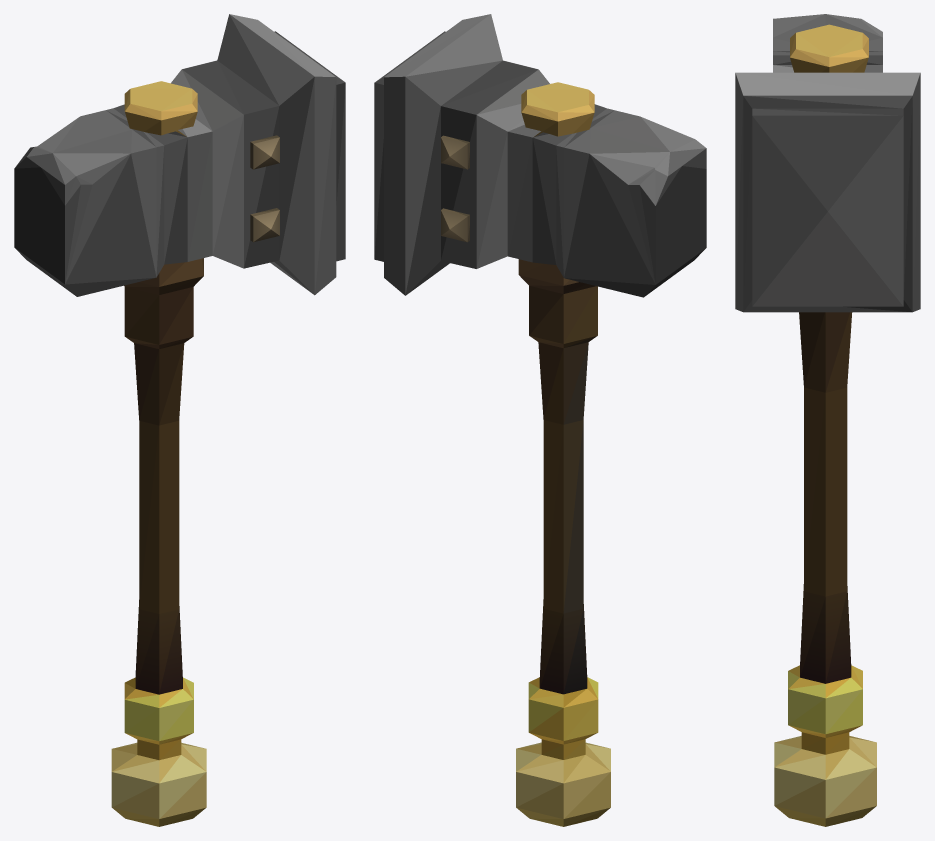
The model's file is weapon_hammer_gold_1.fbx.
3 renders of one model, left to right at view 1: azimuth 30°, elevation 25°; view 2: azimuth 150°, elevation 25°; view 3: azimuth 270°, elevation 25°, orthographic. The views are drawn at different scales.
Parts seen in each view (by area): view 1: weapon_hammer_gold_1; view 2: weapon_hammer_gold_1; view 3: weapon_hammer_gold_1.
Boxes of the visible parts, bbox=[...] form: weapon_hammer_gold_1: bbox=[14, 14, 345, 826]; weapon_hammer_gold_1: bbox=[374, 14, 706, 826]; weapon_hammer_gold_1: bbox=[735, 14, 920, 826].
Bounding box in the file's own units: 0.9844 × 2.55 × 0.5371.
